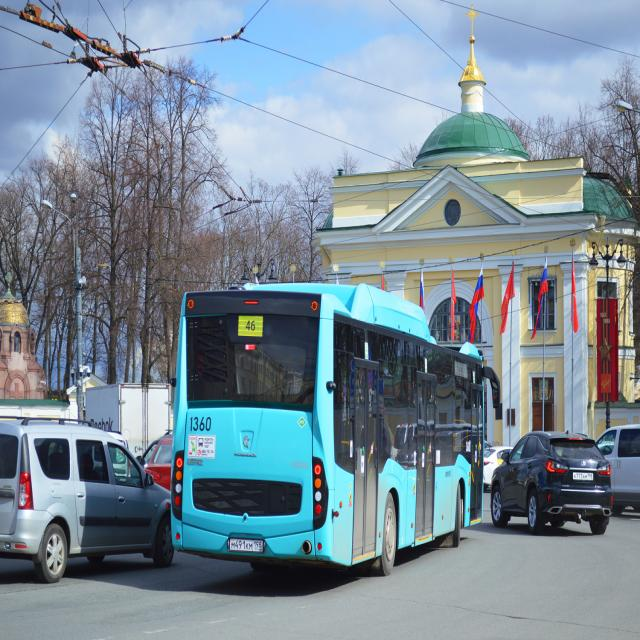number-of-bus: (246, 319, 258, 333)
